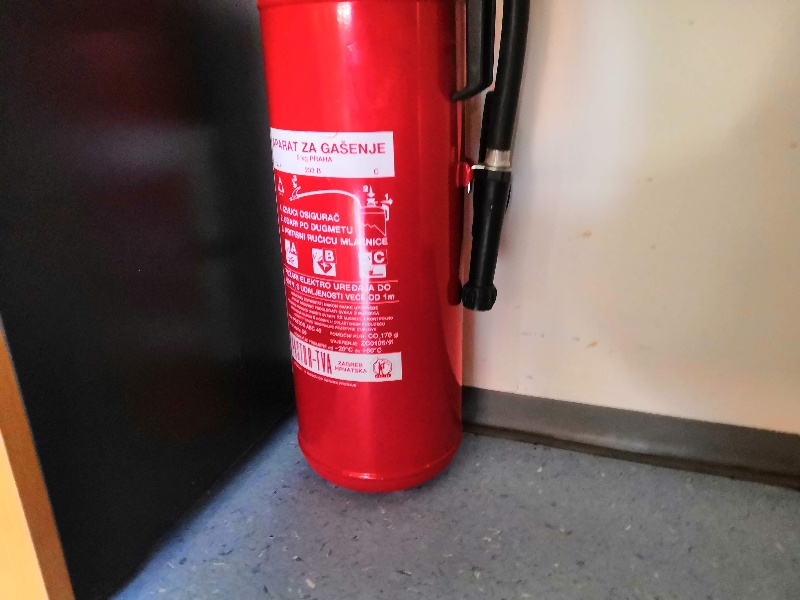vataparat: (254, 1, 530, 495)
